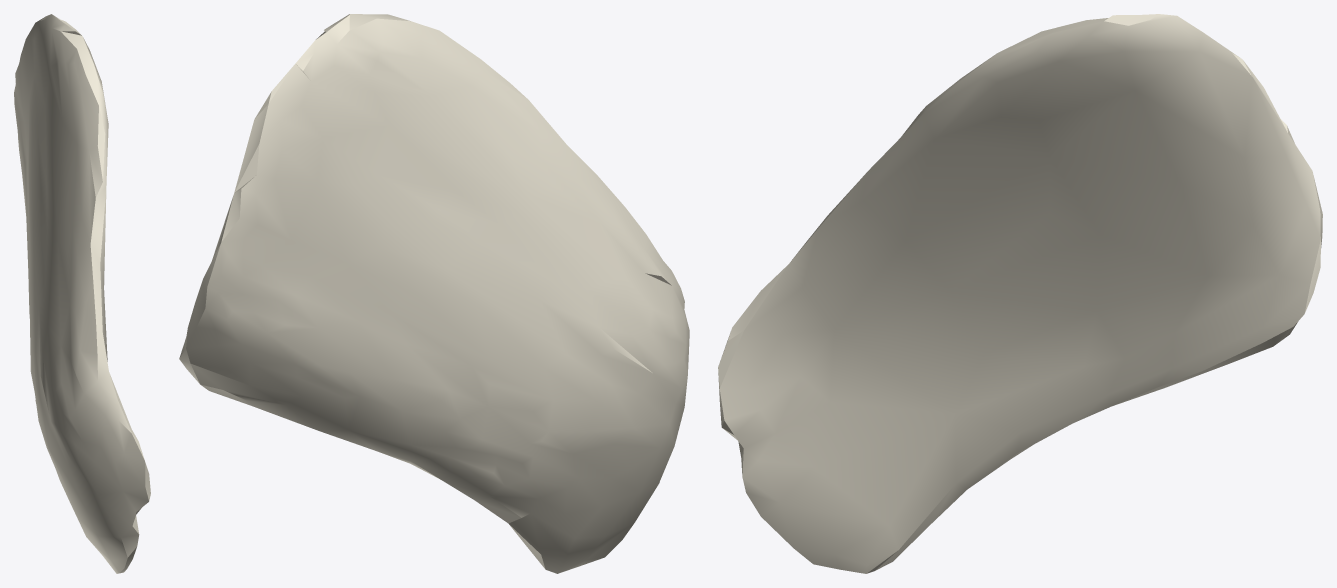
File: fma321706-l_mm1483.glb
3 renders of one model, left to right at view 1: azimuth 30°, elevation 25°; view 2: azimuth 150°, elevation 25°; view 3: azimuth 270°, elevation 25°, orthographic. The views are drawn at different scales.
Visible parts, largest first — view 1: FMA321706-L_MM1483; view 2: FMA321706-L_MM1483; view 3: FMA321706-L_MM1483.
Boxes of the visible parts, left/top/right/bottom form: FMA321706-L_MM1483: left=14, top=14, right=150, bottom=573; FMA321706-L_MM1483: left=179, top=14, right=689, bottom=573; FMA321706-L_MM1483: left=718, top=14, right=1322, bottom=573.
Size of the model in its own units: 0.00317 by 0.00802 by 0.00739.
